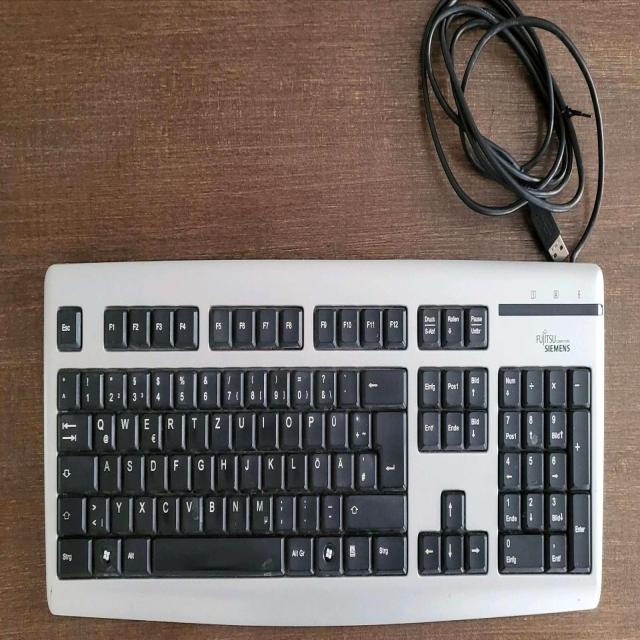0: (290, 365, 310, 405)
1: (80, 367, 100, 407)
2: (103, 367, 123, 407)
3: (126, 367, 146, 407)
4: (150, 366, 169, 406)
5: (173, 366, 193, 406)
6: (197, 365, 218, 406)
7: (221, 365, 241, 406)
8: (244, 366, 265, 406)
9: (267, 365, 287, 406)
a: (98, 451, 117, 489)
accent: (336, 366, 356, 403)
ae: (332, 449, 351, 486)
alt-left: (122, 534, 147, 571)
altgr-right: (286, 533, 311, 570)
b: (202, 491, 222, 530)
c: (156, 492, 176, 531)
caret: (56, 366, 75, 408)
comma: (274, 491, 293, 528)
d: (145, 451, 164, 489)
del: (362, 364, 405, 403)
e: (138, 409, 158, 449)
enter: (373, 404, 404, 488)
f: (168, 451, 187, 488)
g: (192, 450, 210, 488)
h: (216, 451, 234, 488)
hash: (355, 448, 374, 487)
i: (256, 409, 275, 446)
j: (239, 450, 258, 487)
k: (263, 450, 281, 487)
keyboard: (40, 256, 607, 629)
l: (286, 450, 304, 487)
less: (85, 492, 105, 532)
m: (250, 491, 270, 530)
minus: (321, 490, 339, 527)
n: (227, 491, 246, 530)
o: (280, 407, 299, 445)
oe: (309, 450, 328, 487)
p: (303, 407, 321, 445)
plus: (349, 406, 368, 445)
point: (296, 490, 316, 528)
q: (91, 408, 111, 449)
r: (163, 409, 182, 448)
s: (121, 451, 140, 490)
shift-left: (56, 493, 81, 533)
shift-lock: (57, 452, 94, 492)
shift-right: (344, 491, 404, 527)
space: (151, 534, 282, 571)
ss: (314, 365, 333, 406)
strg-left: (55, 534, 88, 576)
strg-right: (372, 532, 404, 570)
t: (186, 408, 205, 447)
tab: (56, 409, 88, 449)
u: (232, 408, 252, 447)
ue: (326, 407, 345, 445)
v: (180, 492, 199, 530)
w: (115, 408, 134, 448)
x: (133, 493, 152, 531)
y: (110, 492, 129, 530)
z: (209, 408, 228, 447)
